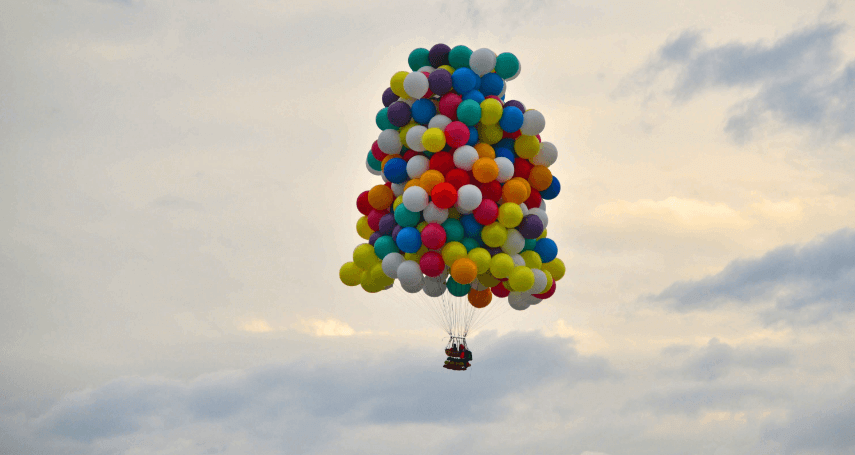Balloon: (469, 48, 496, 75), (403, 72, 429, 99), (431, 182, 457, 209), (402, 186, 429, 212), (451, 257, 477, 284), (421, 223, 447, 249), (472, 157, 499, 182), (457, 184, 482, 211), (495, 52, 520, 78), (456, 99, 481, 125), (481, 223, 507, 248), (396, 227, 421, 253), (397, 260, 423, 285), (368, 184, 393, 210), (500, 106, 524, 133), (521, 109, 545, 136), (453, 145, 478, 170), (444, 121, 469, 146), (377, 129, 402, 154), (498, 203, 523, 228), (420, 252, 445, 277), (452, 68, 476, 94), (514, 135, 540, 159), (474, 199, 498, 225), (383, 157, 407, 183), (510, 266, 534, 292), (353, 243, 377, 269), (411, 99, 436, 123), (533, 142, 557, 167), (502, 180, 527, 204), (519, 214, 543, 239), (429, 69, 452, 95), (480, 98, 502, 125), (388, 101, 411, 126), (491, 253, 514, 278), (480, 73, 503, 97), (422, 128, 446, 151), (407, 153, 430, 177), (340, 261, 362, 286), (536, 238, 557, 263), (448, 45, 471, 67)
